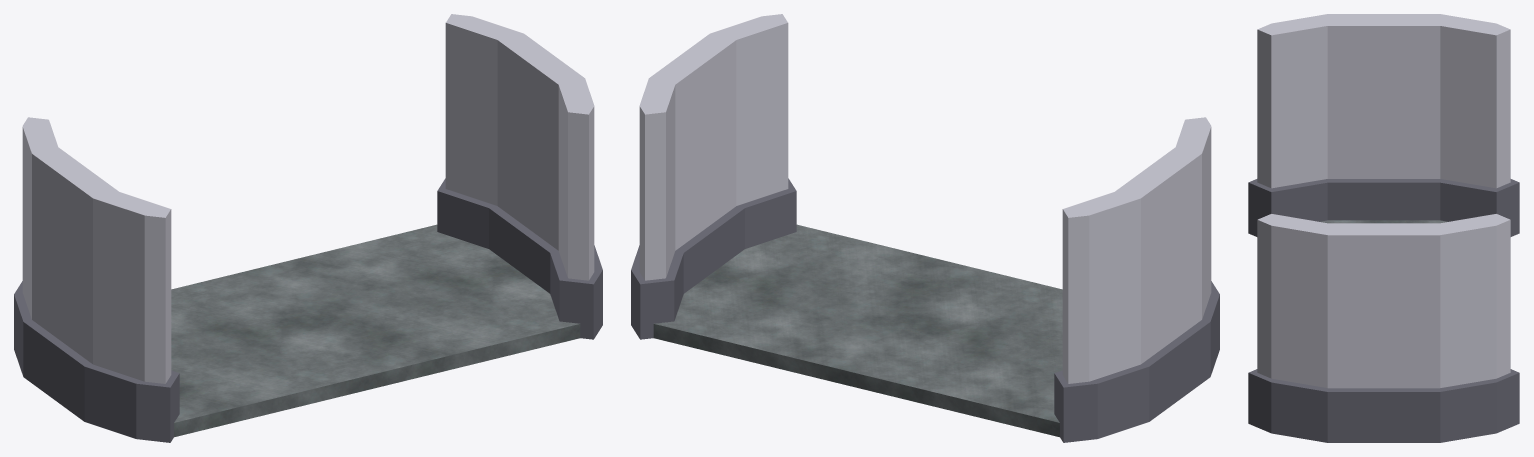
Rendered from hallway_short_05.fbx.
The picture shows the model from 3 angles, left to right: view 1: azimuth 30°, elevation 25°; view 2: azimuth 150°, elevation 25°; view 3: azimuth 270°, elevation 25°; orthographic projection. The views are drawn at different scales.
Visible parts, largest first — view 1: floor_06_103, wall_03_101, wall_03_104; view 2: floor_06_103, wall_03_101, wall_03_104; view 3: wall_03_104, wall_03_101, floor_06_103.
Boxes of the visible parts, x1,y1,x2,y2 form: floor_06_103: [171, 224, 580, 437]; wall_03_101: [14, 117, 179, 442]; wall_03_104: [437, 14, 602, 339]; floor_06_103: [653, 224, 1062, 437]; wall_03_101: [1054, 117, 1219, 442]; wall_03_104: [631, 14, 796, 339]; wall_03_104: [1248, 214, 1519, 442]; wall_03_101: [1248, 14, 1519, 236]; floor_06_103: [1320, 220, 1447, 223].
Bounding box in the file's own units: 24.05 × 10 × 12.05.
